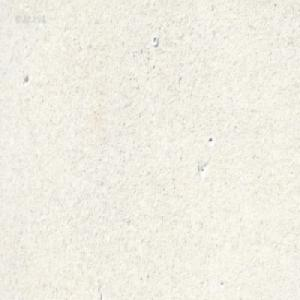Washer: (151, 35, 158, 46)
